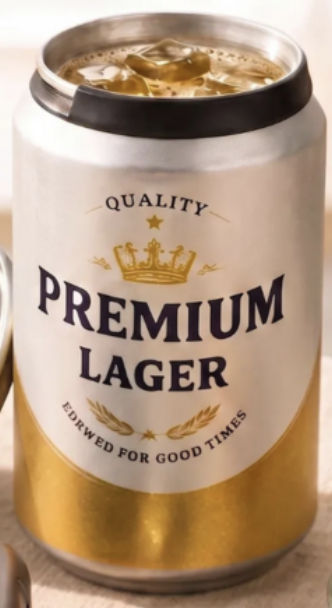beer-can: (12, 9, 325, 596)
